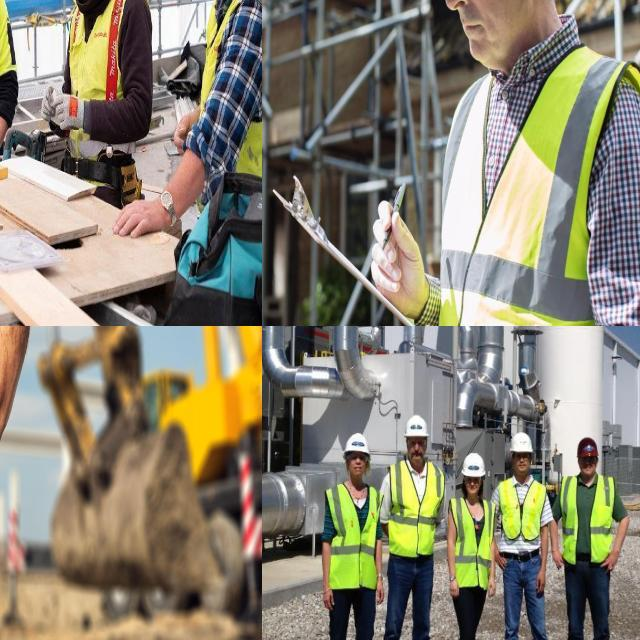face_nomask: (439, 0, 527, 65), (506, 450, 532, 480), (348, 448, 368, 486), (575, 456, 600, 482), (407, 440, 427, 470), (461, 476, 482, 498)
glasses: (511, 446, 533, 465), (346, 449, 368, 466), (406, 436, 428, 449)
hand_glove: (42, 81, 85, 140)
hand_noglove: (359, 189, 435, 316), (0, 326, 37, 534), (119, 172, 174, 247), (548, 543, 572, 572), (497, 544, 511, 576), (601, 550, 615, 580), (446, 577, 461, 605), (372, 578, 388, 604), (320, 583, 335, 610), (484, 577, 499, 601), (534, 572, 547, 596)
head_helmet: (403, 412, 429, 441), (342, 432, 372, 456), (459, 451, 487, 476), (509, 430, 535, 456), (575, 434, 598, 459)
person: (356, 0, 640, 326), (153, 0, 262, 253), (57, 0, 153, 192), (549, 434, 631, 640), (492, 429, 566, 640), (380, 413, 442, 640), (322, 429, 378, 640), (445, 450, 494, 640)
vest: (415, 49, 633, 326), (324, 481, 379, 592), (388, 460, 444, 556), (562, 475, 614, 564), (239, 0, 262, 199), (448, 495, 490, 591)
